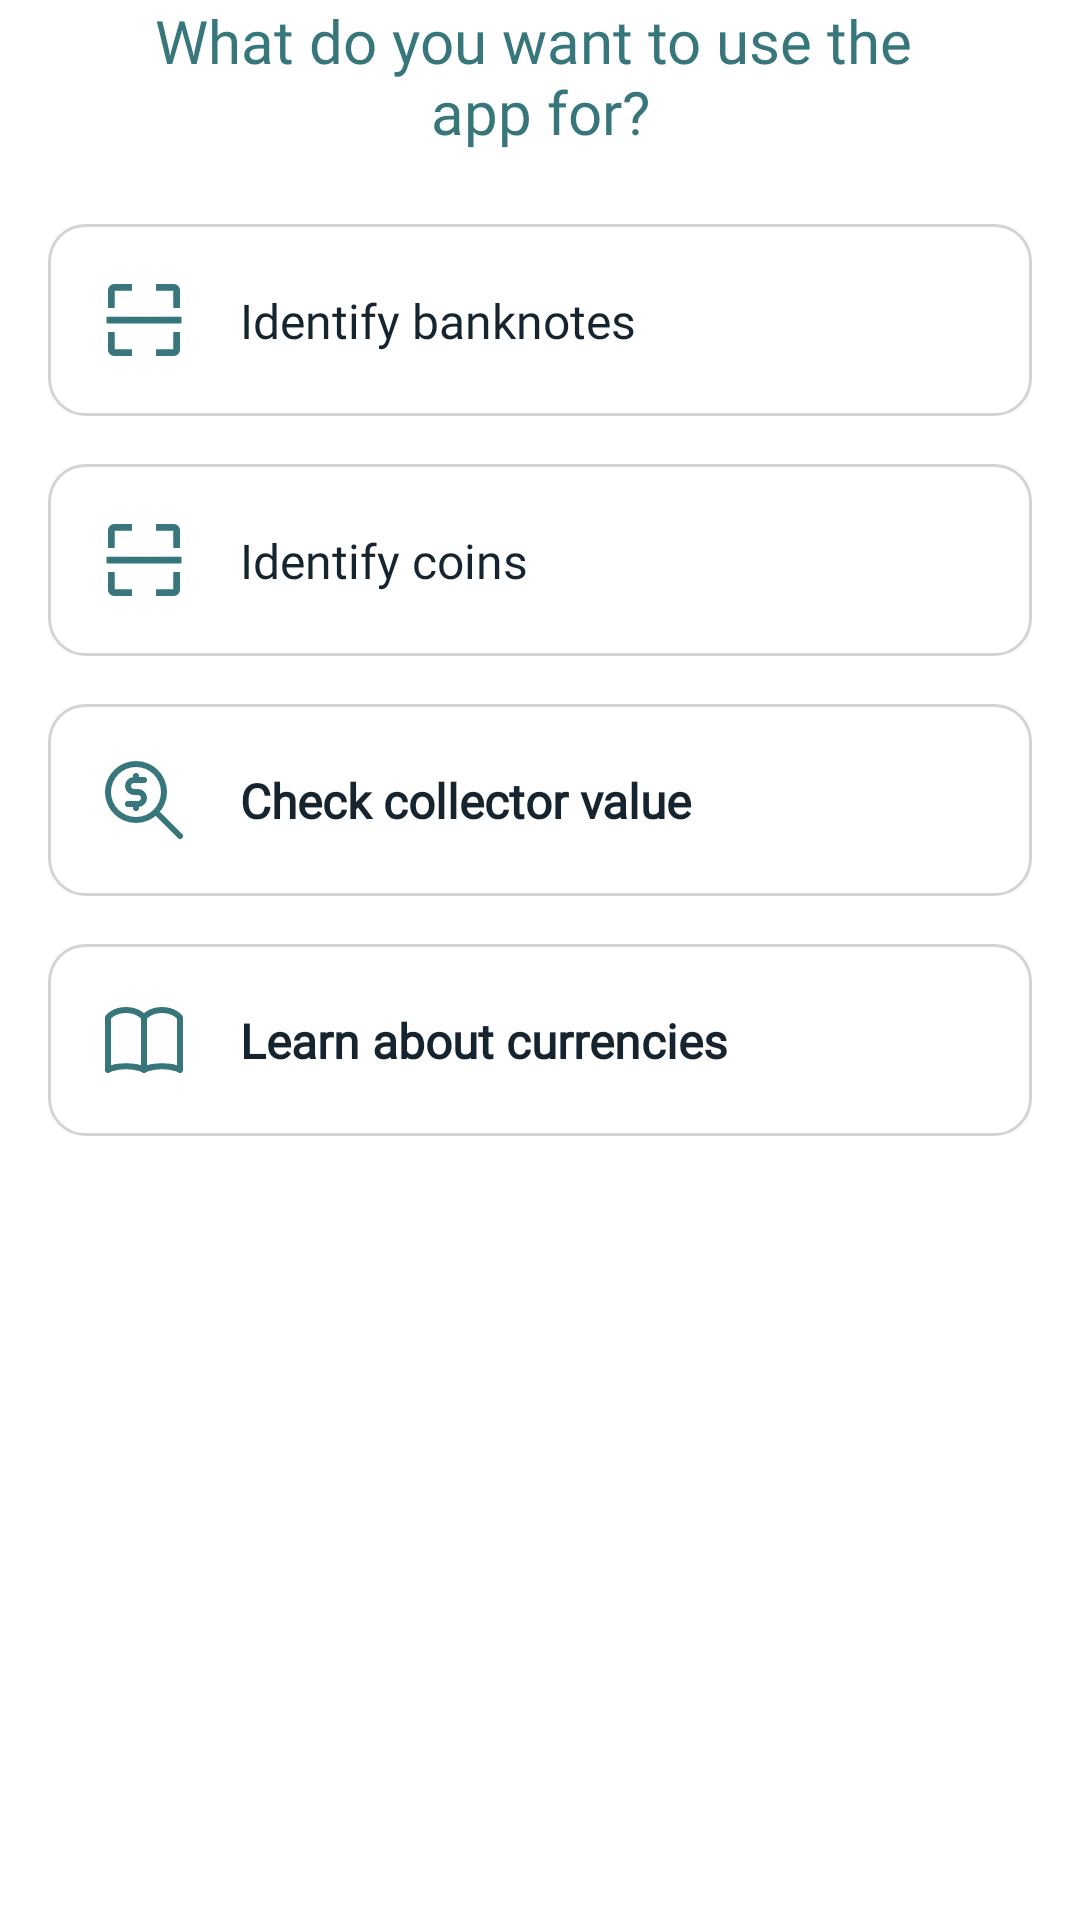

Where icons sit on this 1080w x 1920h app screen, as [x1=x1, y1=y1, x2=x2, y2=y2]:
book: [x1=105, y1=1007, x2=183, y2=1073]
scan: [x1=106, y1=284, x2=182, y2=356], [x1=106, y1=524, x2=182, y2=596]
zoom: [x1=105, y1=761, x2=183, y2=839]
